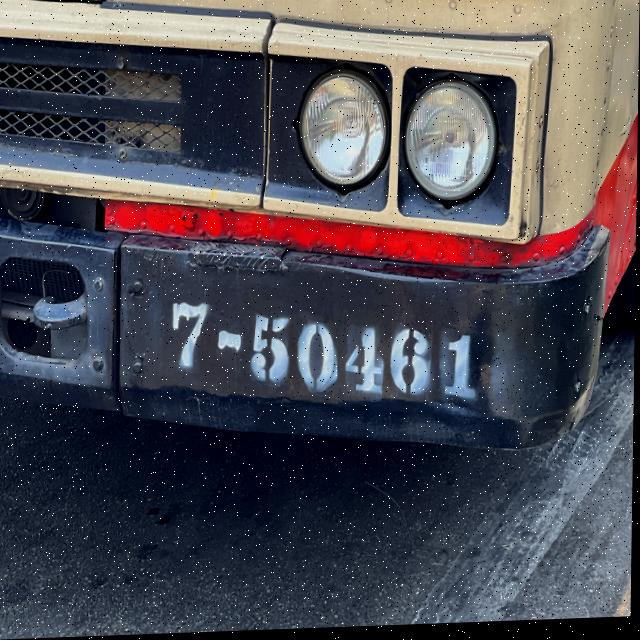BMTA-bus: (0, 0, 640, 472)
